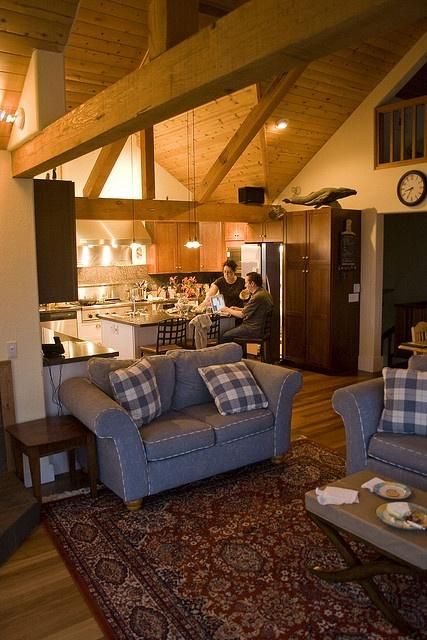Lemari: (282, 208, 360, 370), (145, 220, 199, 276)
Meja: (6, 413, 98, 472)
